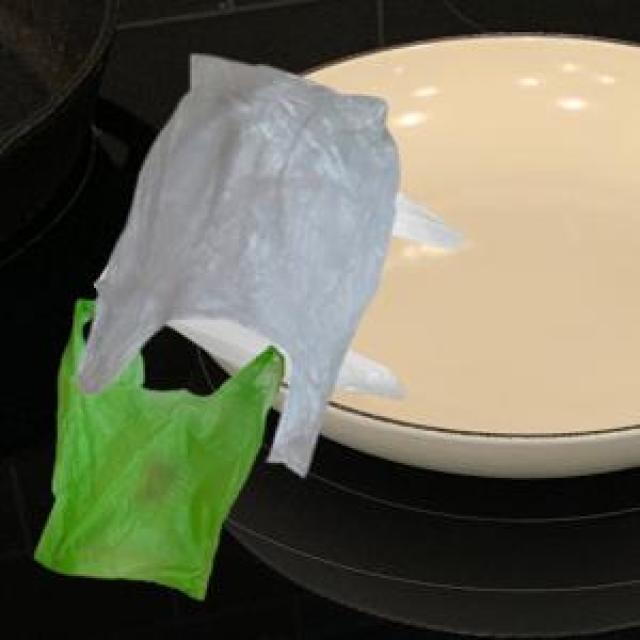plastic: (47, 22, 392, 592)
